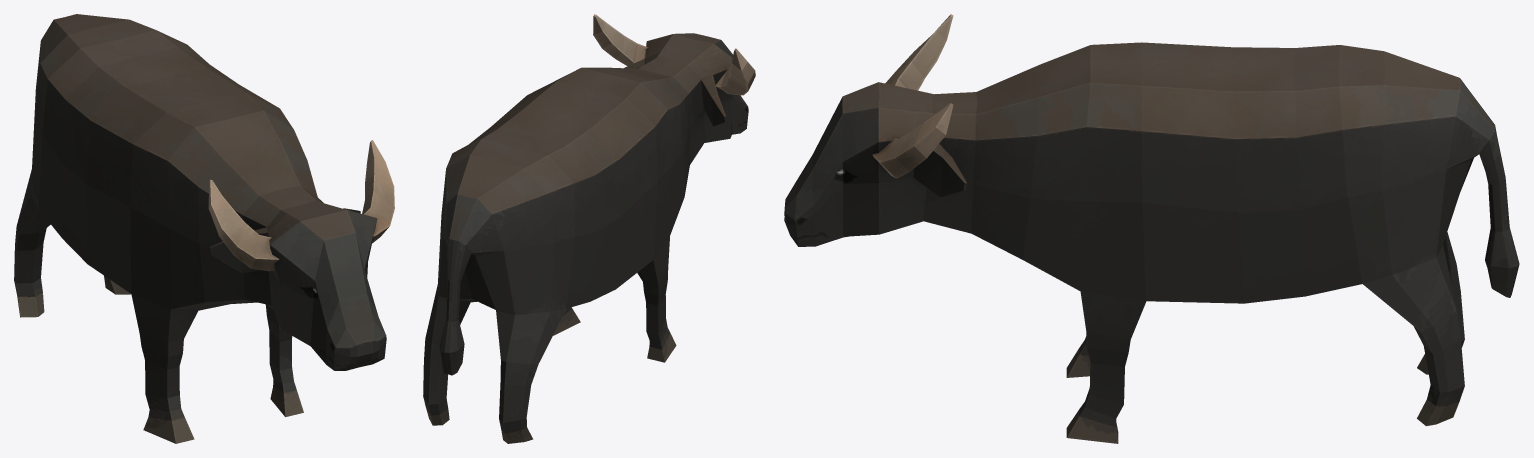
Rendered from Tamaraw.fbx.
3 views of the same model, side by side, from view 1: azimuth 30°, elevation 25°; view 2: azimuth 150°, elevation 25°; view 3: azimuth 270°, elevation 25° (orthographic). The views are drawn at different scales.
Parts seen in each view (by area): view 1: Tamaraw; view 2: Tamaraw; view 3: Tamaraw.
Part boxes in pixels (<box>): Tamaraw: <box>14,14,394,443</box>; Tamaraw: <box>423,14,755,443</box>; Tamaraw: <box>784,14,1519,443</box>.
Bounding box in the file's own units: 59.01 × 99.12 × 191.
